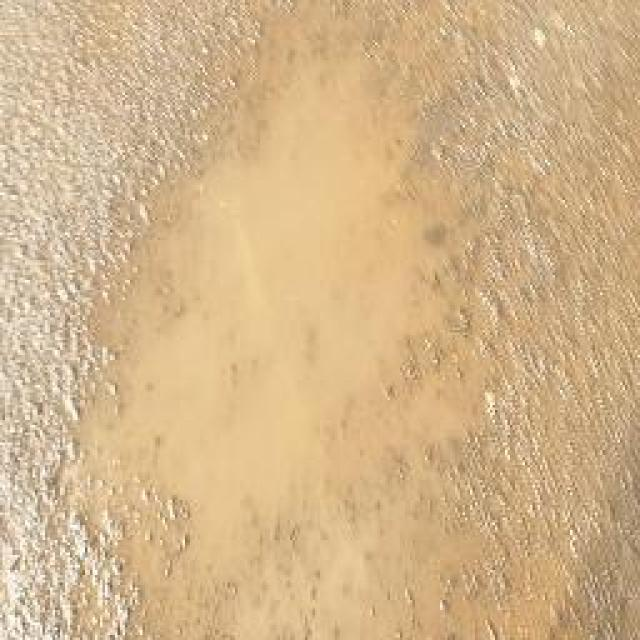stagnation: (16, 20, 562, 640)
